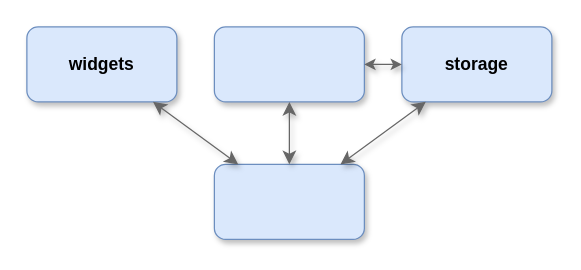
This 581x270 diagram has some shape labels left out. The centre of each missing label's shape, as x and y in pixels:
"models" goes at (290,66).
"presenters" goes at (290,203).
